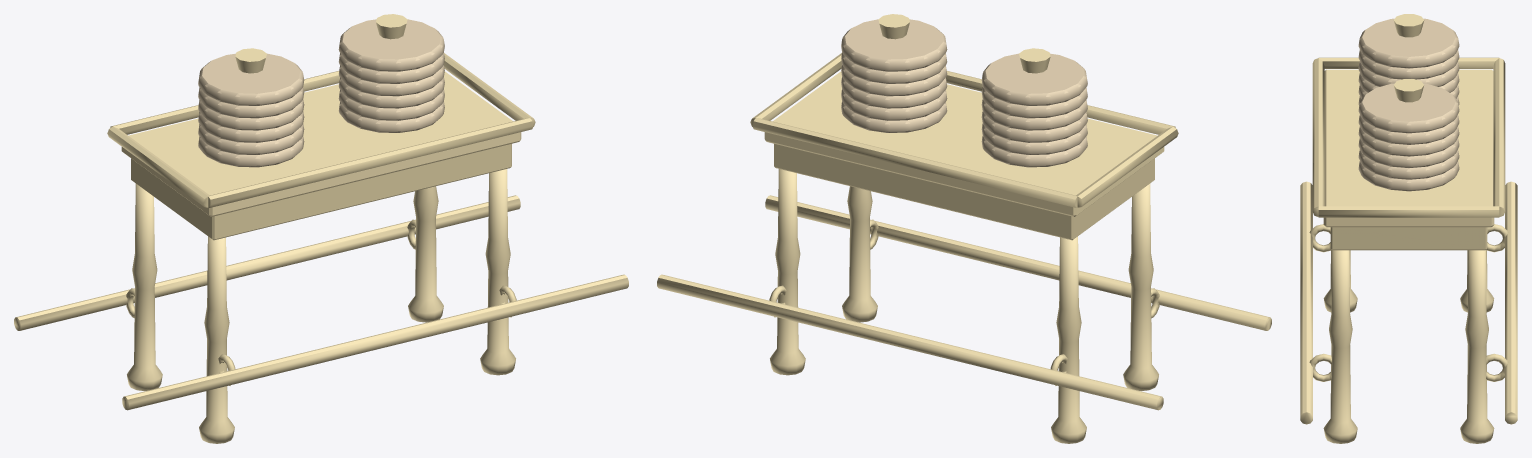
The model's file is showbread.glb.
The picture shows the model from 3 angles, left to right: view 1: azimuth 30°, elevation 25°; view 2: azimuth 150°, elevation 25°; view 3: azimuth 270°, elevation 25°; orthographic projection. The views are drawn at different scales.
Visible parts, largest first — view 1: table; view 2: table; view 3: table.
Boxes of the visible parts, <box> form: table: <box>14,14,628,443</box>; table: <box>657,14,1271,443</box>; table: <box>1300,14,1517,443</box>.
Size of the model in its own units: 3.2 by 2.07 by 1.28.
